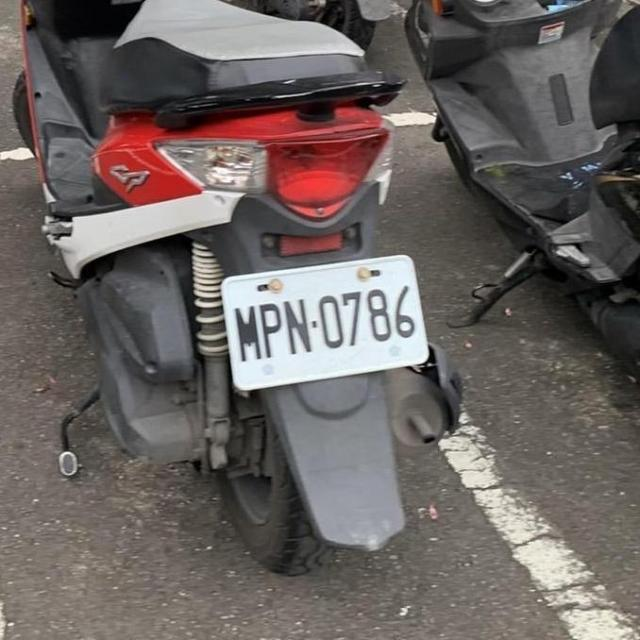W: (209, 245, 436, 394)
